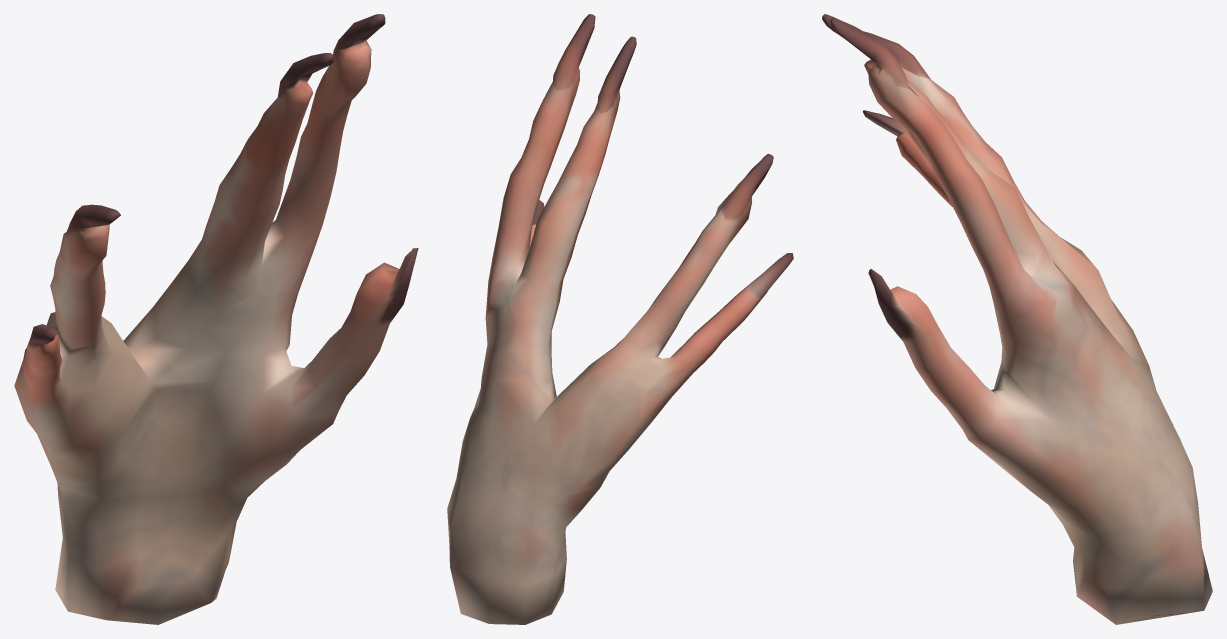
The model's file is HandR (2).fbx.
3 renders of one model, left to right at view 1: azimuth 30°, elevation 25°; view 2: azimuth 150°, elevation 25°; view 3: azimuth 270°, elevation 25°, orthographic. The views are drawn at different scales.
Parts seen in each view (by area): view 1: UmeriCraci_low.002; view 2: UmeriCraci_low.002; view 3: UmeriCraci_low.002.
Boxes of the visible parts, x1,y1,x2,y2 form: UmeriCraci_low.002: [14, 14, 418, 624]; UmeriCraci_low.002: [447, 14, 793, 624]; UmeriCraci_low.002: [822, 14, 1212, 624].
Size of the model in its own units: 31.18 by 29.98 by 53.32.
